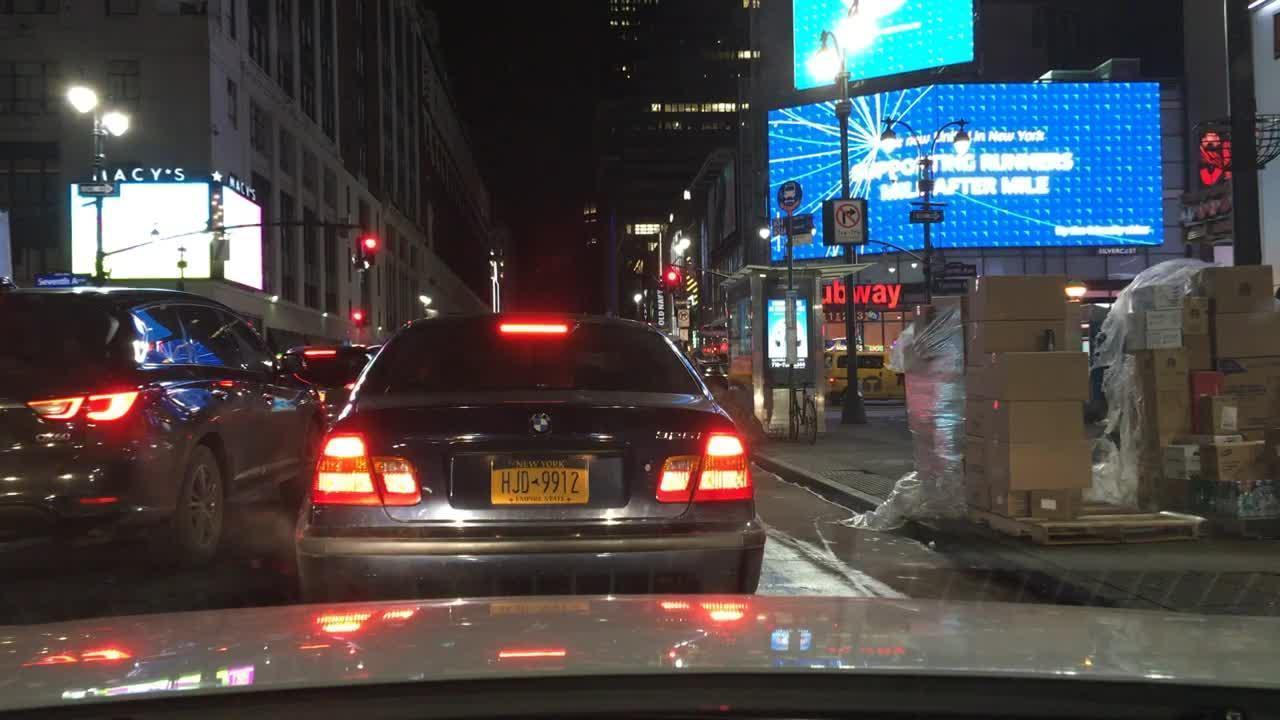bmw: (518, 407, 558, 438)
